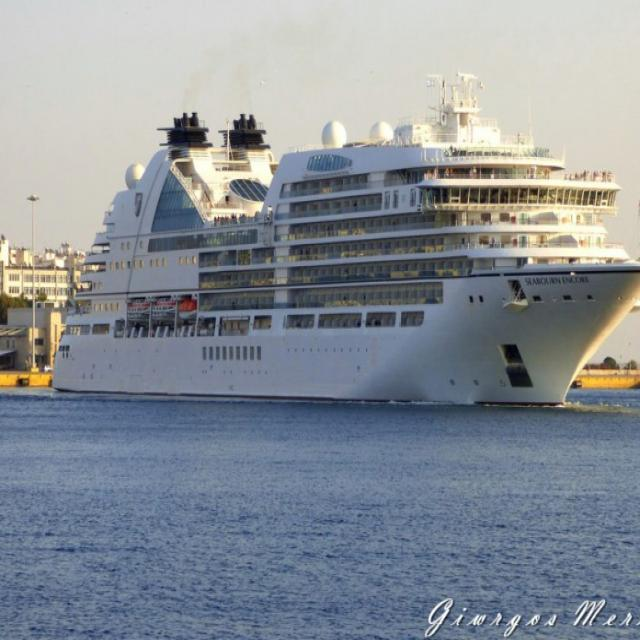cruises: (49, 66, 640, 418)
